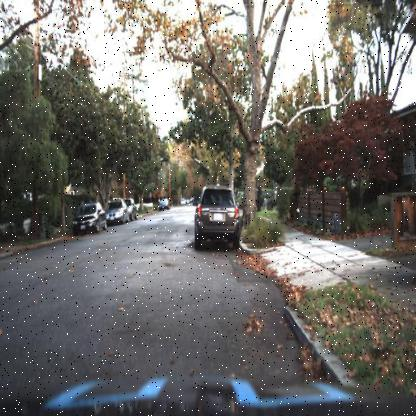car: (186, 179, 247, 256), (69, 192, 107, 245), (103, 192, 128, 231), (122, 193, 140, 221), (157, 196, 172, 212)
